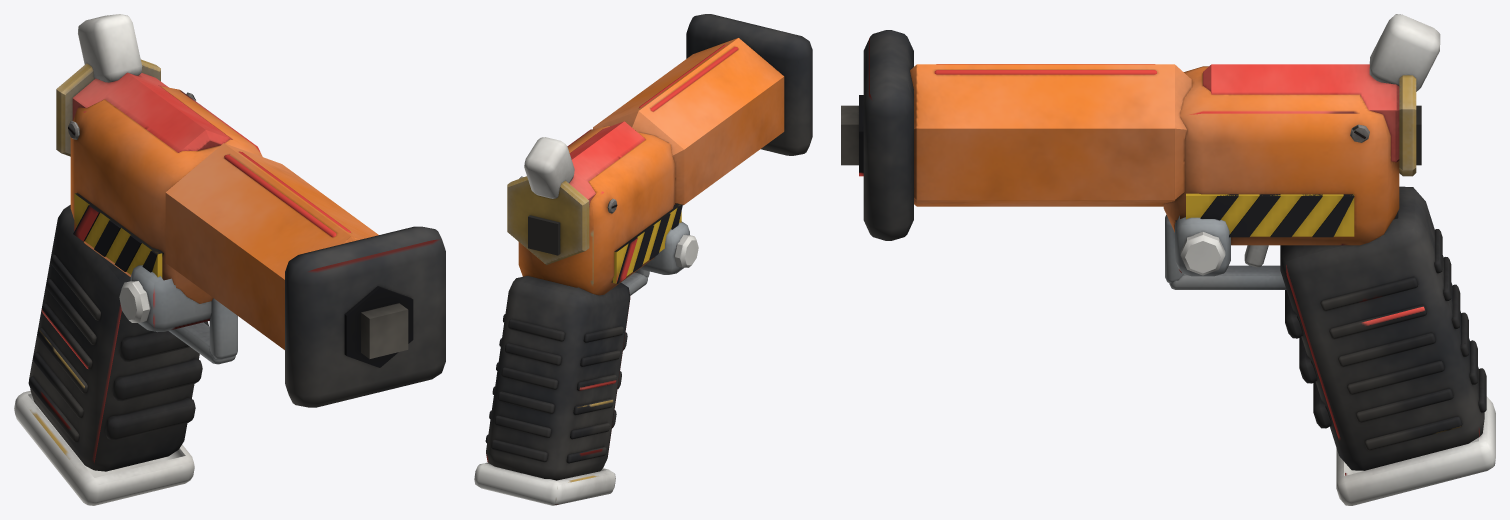
File: flare_gun.fbx
The picture shows the model from 3 angles, left to right: view 1: azimuth 30°, elevation 25°; view 2: azimuth 150°, elevation 25°; view 3: azimuth 270°, elevation 25°; orthographic projection. The views are drawn at different scales.
Visible parts, largest first — view 1: Handle, Mag, Muzzle, Glow; view 2: Handle, Mag, Rear, Glow; view 3: Handle, Mag, Glow, Muzzle.
Part boxes in pixels (x1,y1,x2,y2): Handle: (14, 14, 445, 505); Mag: (56, 59, 232, 156); Muzzle: (361, 303, 408, 358); Glow: (224, 151, 350, 237); Handle: (474, 14, 812, 505); Mag: (507, 121, 645, 264); Rear: (528, 215, 560, 255); Glow: (639, 44, 738, 111); Handle: (859, 14, 1495, 505); Mag: (1203, 64, 1416, 176); Glow: (934, 64, 1156, 74); Muzzle: (841, 105, 858, 165).
Size of the model in its own units: 0.34 by 0.911 by 1.17.
1 material, 1 textured.
